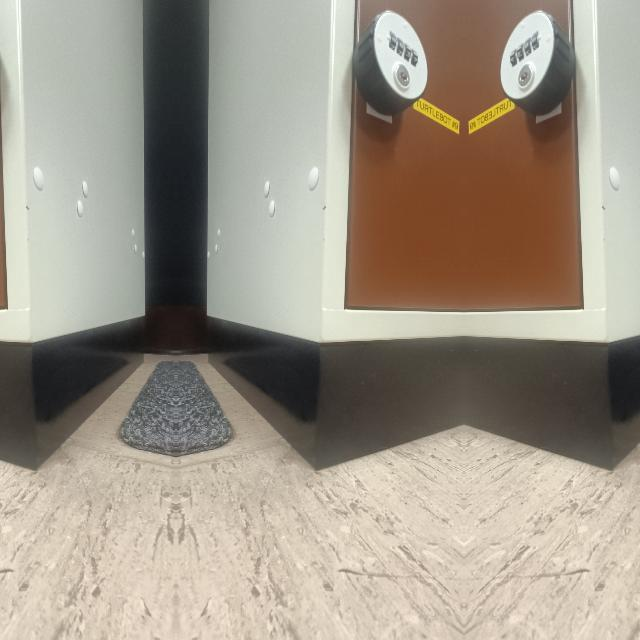obstacle: (200, 21, 464, 473), (464, 21, 640, 473), (0, 21, 150, 473)
